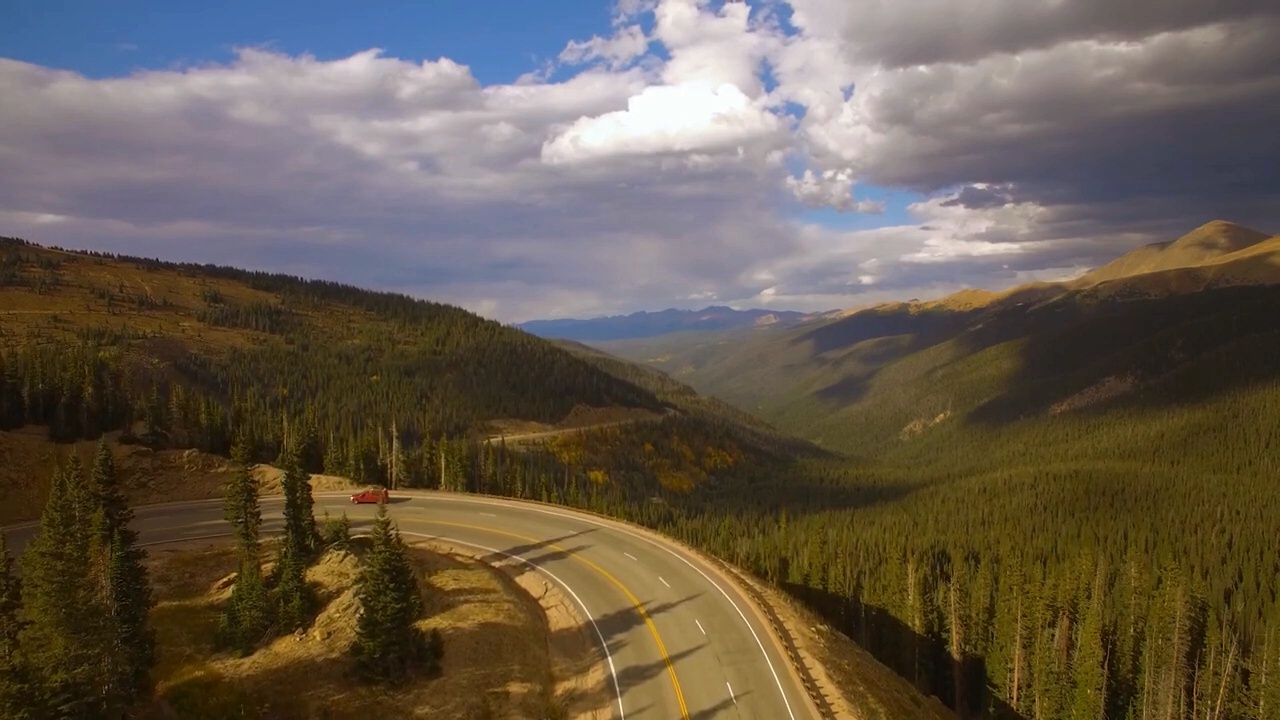araba: (348, 486, 389, 505)
